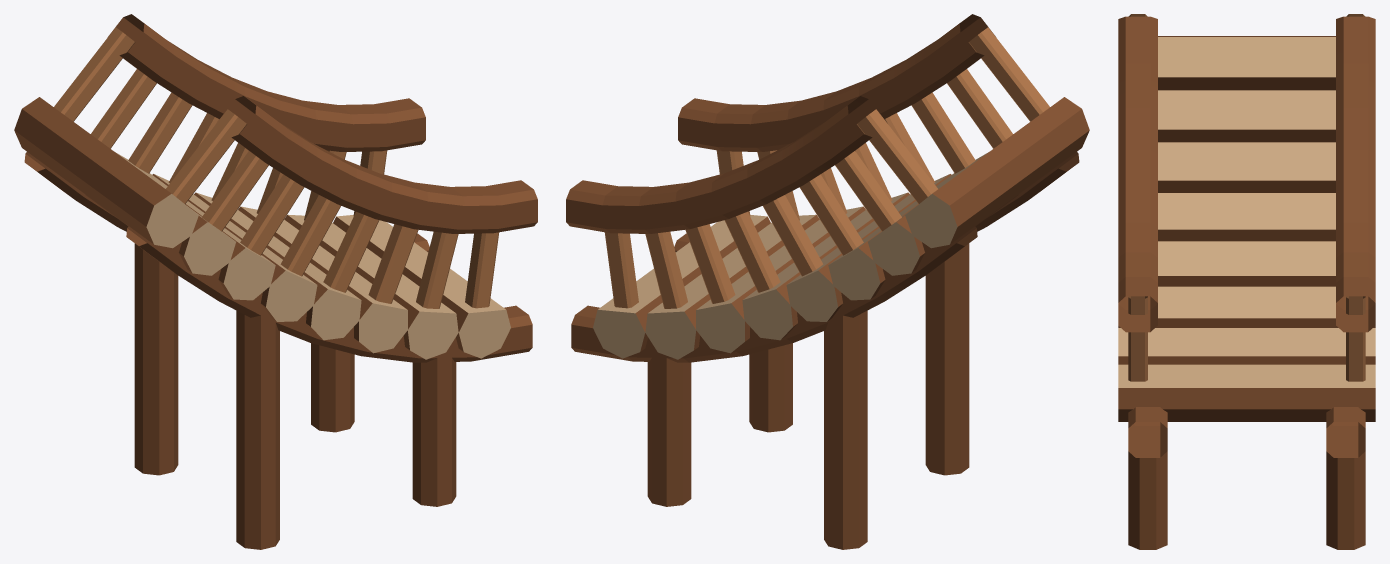
Rendered from Track_Bridge_Incline_Flat_Sharp_Supported.obj.
3 renders of one model, left to right at view 1: azimuth 30°, elevation 25°; view 2: azimuth 150°, elevation 25°; view 3: azimuth 270°, elevation 25°, orthographic. The views are drawn at different scales.
Visible parts, largest first — view 1: Bridge_Pier, Bridge_Rail, Bridge_Rail_Support, Log_Plank_End, Log_Plank_Bark, Bridge_Support_Beam, Log_Plank_Top; view 2: Bridge_Pier, Bridge_Rail, Bridge_Rail_Support, Log_Plank_End, Log_Plank_Bark, Bridge_Support_Beam, Log_Plank_Top; view 3: Log_Plank_Top, Bridge_Rail, Log_Plank_Bark, Bridge_Pier, Bridge_Support_Beam, Bridge_Rail_Support.
Part boxes in pixels (left/top/right/bottom): Bridge_Pier: left=134, top=243, right=456, bottom=549; Bridge_Rail: left=108, top=14, right=537, bottom=233; Bridge_Rail_Support: left=54, top=27, right=499, bottom=308; Log_Plank_End: left=146, top=194, right=510, bottom=359; Log_Plank_Bark: left=14, top=97, right=468, bottom=351; Bridge_Support_Beam: left=24, top=152, right=532, bottom=362; Log_Plank_Top: left=115, top=152, right=505, bottom=313; Bridge_Pier: left=647, top=243, right=969, bottom=549; Bridge_Rail: left=566, top=14, right=995, bottom=233; Bridge_Rail_Support: left=604, top=27, right=1049, bottom=308; Log_Plank_End: left=593, top=194, right=957, bottom=359; Log_Plank_Bark: left=635, top=97, right=1089, bottom=351; Bridge_Support_Beam: left=571, top=152, right=1079, bottom=362; Log_Plank_Top: left=598, top=152, right=988, bottom=313; Log_Plank_Top: left=1118, top=37, right=1375, bottom=387; Bridge_Rail: left=1118, top=16, right=1375, bottom=332; Log_Plank_Bark: left=1118, top=36, right=1375, bottom=421; Bridge_Pier: left=1128, top=451, right=1365, bottom=549; Bridge_Support_Beam: left=1128, top=407, right=1365, bottom=457; Bridge_Rail_Support: left=1128, top=14, right=1365, bottom=381.
Size of the model in its own units: 2.22 by 2.42 by 1.3.
